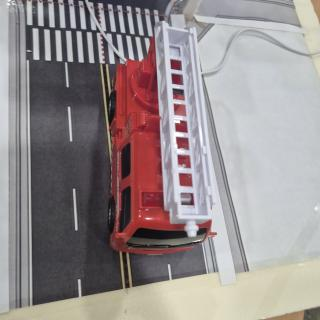Fire_truck: (108, 21, 216, 254)
